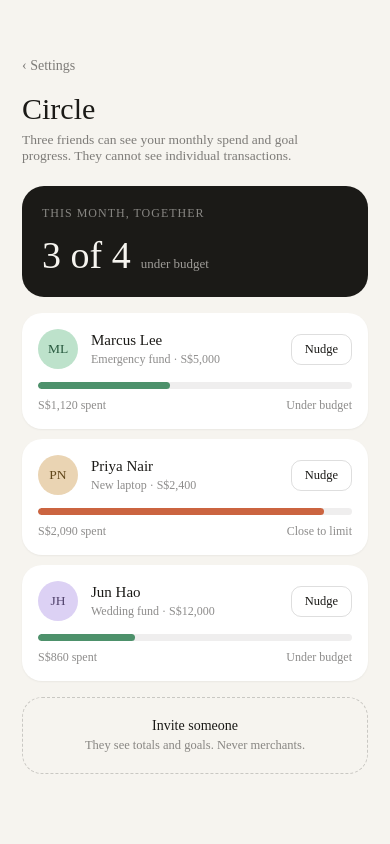
nudging a friend flips the button to "Sent" (local state only)
This screenshot has width=390, height=844.
Expected: the text with test id "nudge-ML" reads "Nudge", [305,342,338,356]
Click the text with test id "nudge-ML" at x=321, y=349, box [291,334,352,364]
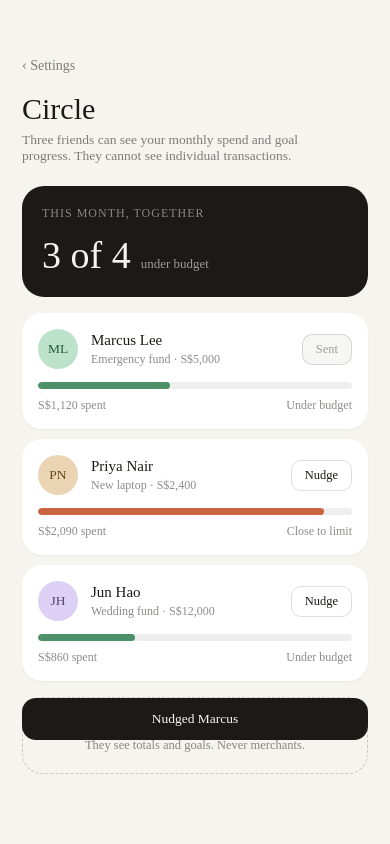
Expected: the text "Sent" is shown, [302,334,352,364]
Expected: the text with test id "nudge-ML" reads "Sent", [316,342,338,356]
